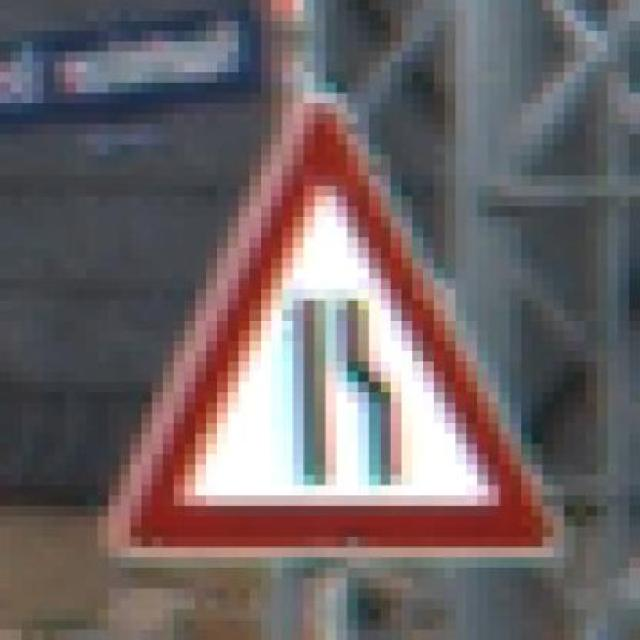-Road narrows on right: (87, 82, 576, 568)
